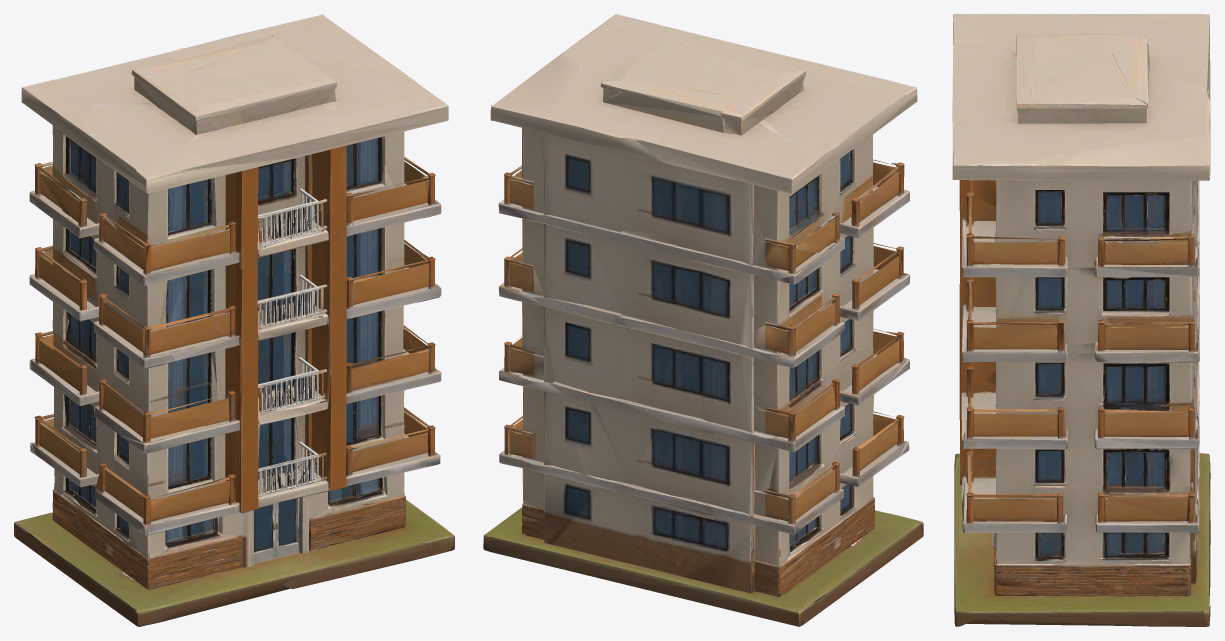
The model's file is upm_mu5vzjb11rm.glb.
3 views of the same model, side by side, from view 1: azimuth 30°, elevation 25°; view 2: azimuth 150°, elevation 25°; view 3: azimuth 270°, elevation 25° (orthographic). The views are drawn at different scales.
Bounding box in the file's own units: 1.35 × 1.9 × 0.9265.
2 materials, 1 textured.
